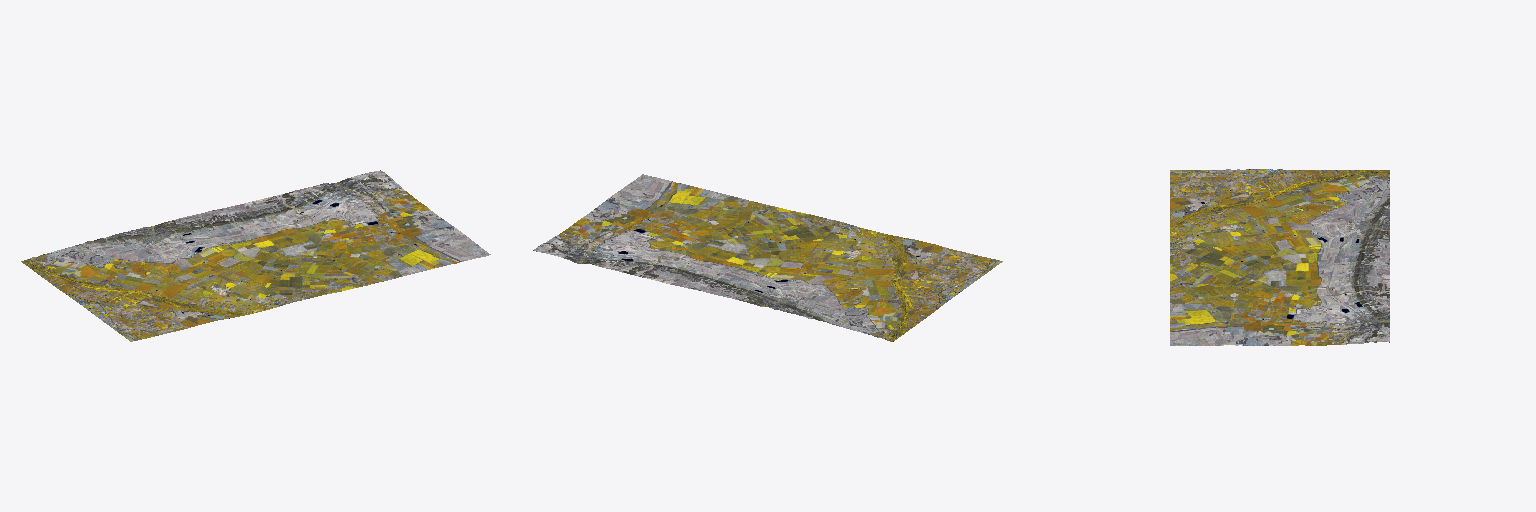
3 views of the same model, side by side, from view 1: azimuth 30°, elevation 25°; view 2: azimuth 150°, elevation 25°; view 3: azimuth 270°, elevation 25° (orthographic).
Parts seen in each view (by area): view 1: futurA_MetElipResi; view 2: futurA_MetElipResi; view 3: futurA_MetElipResi.
Part boxes in pixels (bbox=[...]): futurA_MetElipResi: bbox=[21, 170, 490, 341]; futurA_MetElipResi: bbox=[533, 174, 1002, 341]; futurA_MetElipResi: bbox=[1170, 169, 1389, 345].
Size of the model in its own units: 14088 by 231 by 7468.
Materials: 1 (1 with a texture image).